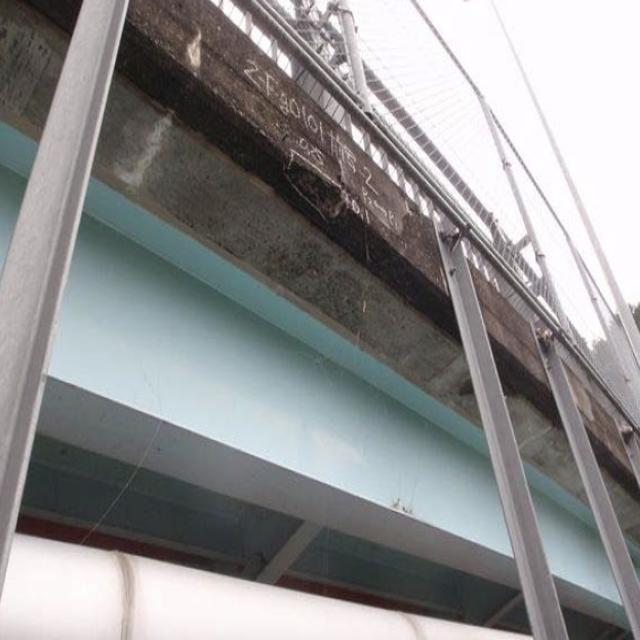spalling: (282, 132, 394, 235)
